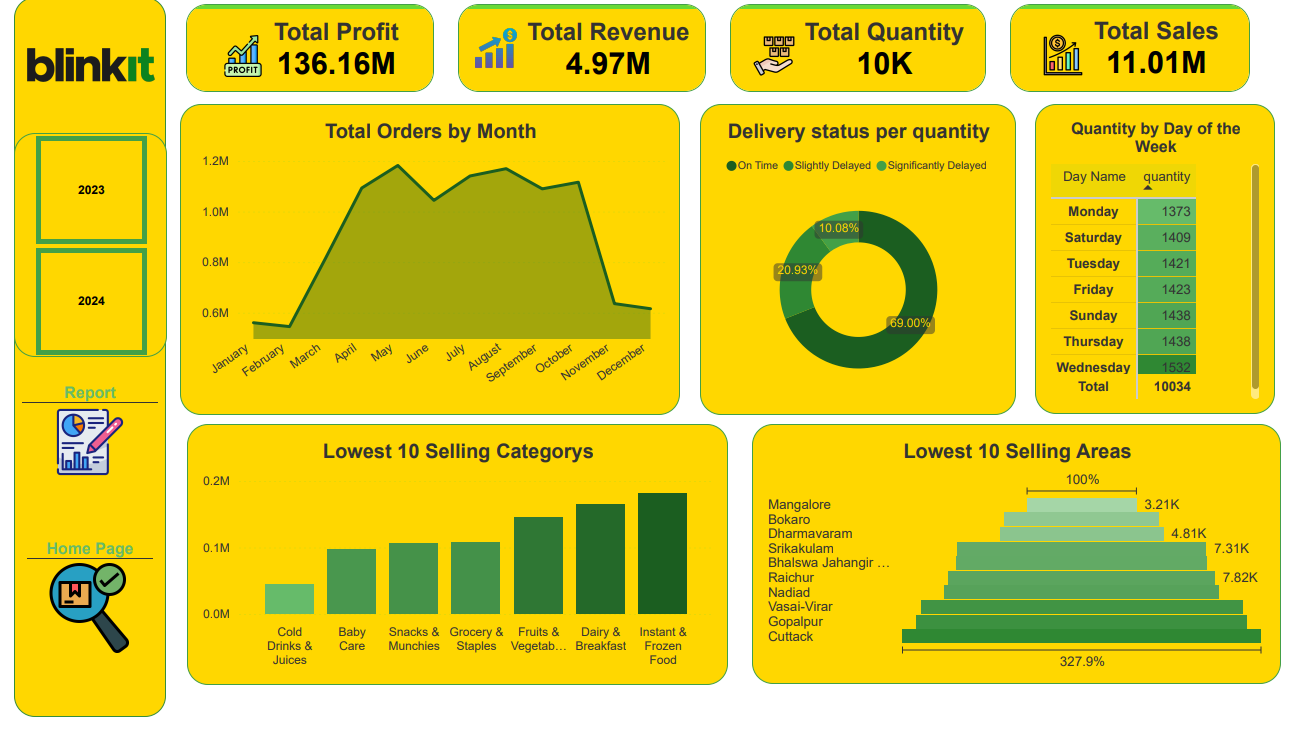

This screenshot's page, from the dashboard's own definition file:
{"tool":"powerbi","page":{"name":"Dashborad","canvas":[1280,720],"ordinal":1},"visuals":[{"type":"shape","box":[0,0,152.2,719.7],"z":0,"group":"g1"},{"type":"areaChart","title":"Total Orders by Month","fields":{"Category":["blinkit_orders.order_date.Variation.Date Hierarchy.Month","blinkit_orders.order_date.Variation.Date Hierarchy.Day"],"Y":["Sum(blinkit_orders.order_total)"]},"box":[165.8,107.5,500.1,310.3],"z":0},{"type":"group","id":"g1","title":"Side Bar","box":[0,0,152.2,719.7],"z":1000},{"type":"donutChart","title":"Delivery status per quantity","fields":{"Category":["blinkit_orders.delivery_status"],"Y":["blinkit_customers.Total Quantity"],"Series":["blinkit_orders.delivery_status"]},"box":[686.3,107.3,315.7,310.3],"z":2000},{"type":"columnChart","title":"Lowest 10 Selling Categorys","fields":{"Category":["blinkit_products.category"],"Y":["Sum(blinkit_orders.order_total)"]},"box":[172.9,427.4,541.2,260.7],"z":2000,"group":"g2"},{"type":"image","box":[0,0,152.5,135.7],"z":3000},{"type":"slicer","fields":{"Values":["blinkit_orders.order_date.Variation.Date Hierarchy.Year"]},"box":[0,135.7,152.5,224.3],"z":4000},{"type":"pivotTable","title":"Quantity by Day of the Week","fields":{"Rows":["blinkit_orders.Day Name"],"Values":["Sum(blinkit_order_items.quantity)"]},"box":[1021.5,107.3,239.4,309.5],"z":5000},{"type":"funnel","title":"Lowest 10 Selling Areas","fields":{"Category":["blinkit_customers.area"],"Y":["Sum(blinkit_orders.order_total)"]},"box":[737.7,427.7,528.9,260.1],"z":5000,"group":"g2"},{"type":"group","id":"g2","title":"Group 3","box":[172.9,427.4,1094.2,260.7],"z":6000},{"type":"cardVisual","fields":{"Data":["blinkit_customers.Total Profit"]},"box":[172,7.1,248,88],"z":7000},{"type":"cardVisual","fields":{"Data":["blinkit_customers.Revenue"]},"box":[444,7.1,248,88],"z":8000},{"type":"cardVisual","fields":{"Data":["blinkit_customers.Total Quantity"]},"box":[716,7.1,256,88],"z":9000},{"type":"cardVisual","fields":{"Data":["blinkit_orders.Total Sales"]},"box":[996,7.1,240,88],"z":10000},{"type":"image","title":"Report","box":[8,371.5,135.7,126.8],"z":11000},{"type":"image","title":"Home Page","box":[13.3,528.5,125.9,145.4],"z":13000}]}

Visuals, with their boxes in screenshot pixels (x1, y1, x2, y2), scaled from the page's 1280x720 canvas onto the 1306x734 screenshot:
shape: pyautogui.locateOnScreen(0, 0, 155, 733)
"Total Orders by Month" areaChart: pyautogui.locateOnScreen(169, 110, 679, 426)
"Side Bar" group: pyautogui.locateOnScreen(0, 0, 155, 733)
"Delivery status per quantity" donutChart: pyautogui.locateOnScreen(700, 109, 1022, 426)
"Lowest 10 Selling Categorys" columnChart: pyautogui.locateOnScreen(176, 436, 729, 701)
image: pyautogui.locateOnScreen(0, 0, 156, 138)
slicer - blinkit_orders.order_date.Variation.Date Hierarchy.Year: pyautogui.locateOnScreen(0, 138, 156, 367)
"Quantity by Day of the Week" pivotTable: pyautogui.locateOnScreen(1042, 109, 1287, 425)
"Lowest 10 Selling Areas" funnel: pyautogui.locateOnScreen(753, 436, 1292, 701)
"Group 3" group: pyautogui.locateOnScreen(176, 436, 1293, 701)
cardVisual - blinkit_customers.Total Profit: pyautogui.locateOnScreen(175, 7, 429, 97)
cardVisual - blinkit_customers.Revenue: pyautogui.locateOnScreen(453, 7, 706, 97)
cardVisual - blinkit_customers.Total Quantity: pyautogui.locateOnScreen(731, 7, 992, 97)
cardVisual - blinkit_orders.Total Sales: pyautogui.locateOnScreen(1016, 7, 1261, 97)
"Report" image: pyautogui.locateOnScreen(8, 379, 147, 508)
"Home Page" image: pyautogui.locateOnScreen(14, 539, 142, 687)
